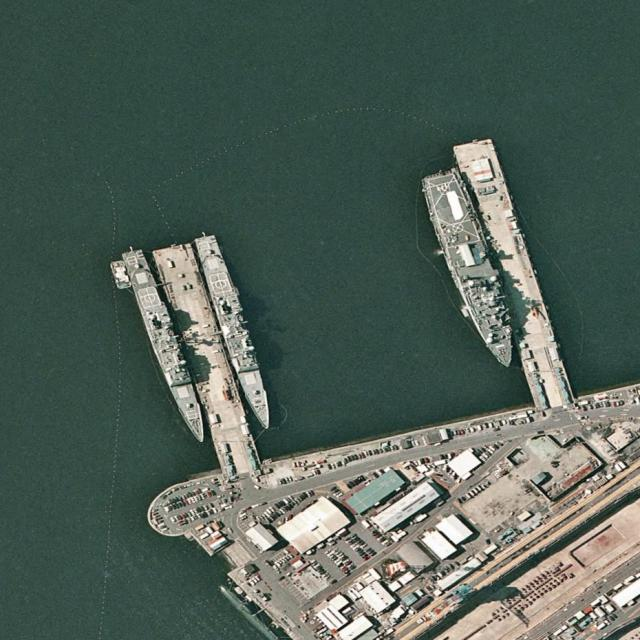Cruiser: (122, 247, 210, 447), (194, 233, 278, 431)
Dock: (451, 132, 570, 414), (150, 238, 257, 476)
Landing: (417, 162, 524, 378)
Other Ship: (109, 260, 131, 292)
